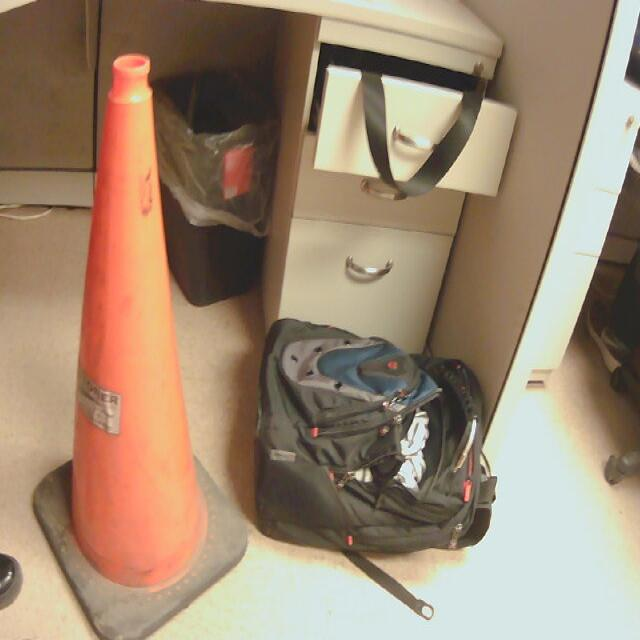traffic cone: (32, 56, 250, 640)
